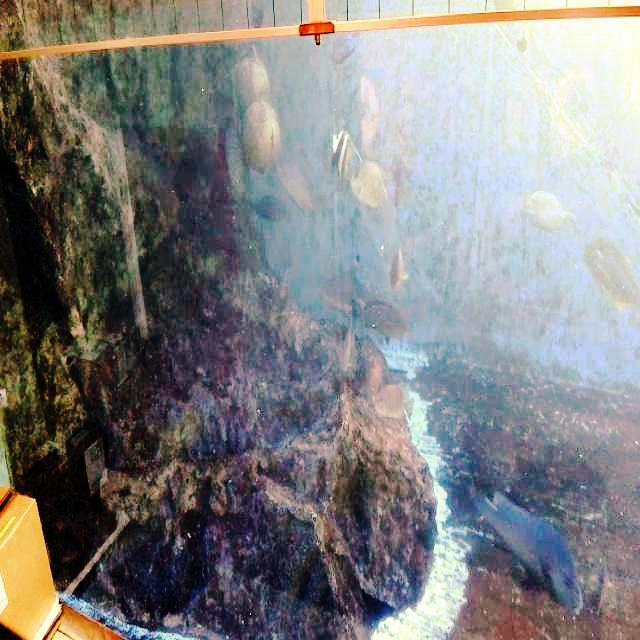angelfish: (326, 124, 366, 194)
gold snapper: (581, 227, 640, 328), (518, 179, 582, 251), (348, 293, 418, 357), (370, 376, 418, 430)
